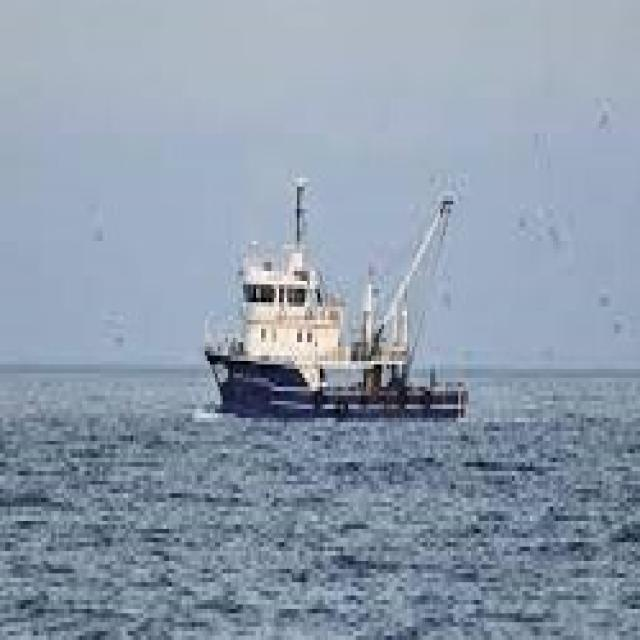fishing boat: (193, 164, 478, 418)
